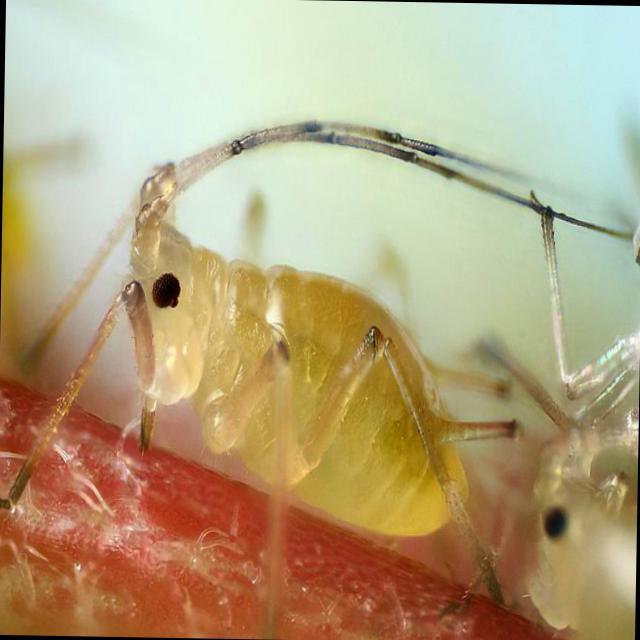aphid: (49, 84, 628, 567)
